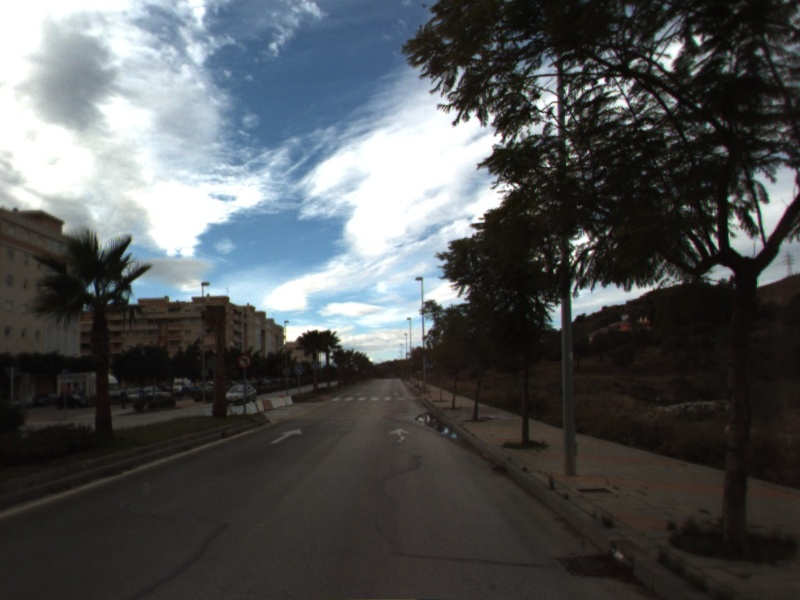STRAIGHT: (268, 426, 305, 445), (387, 426, 412, 445)
